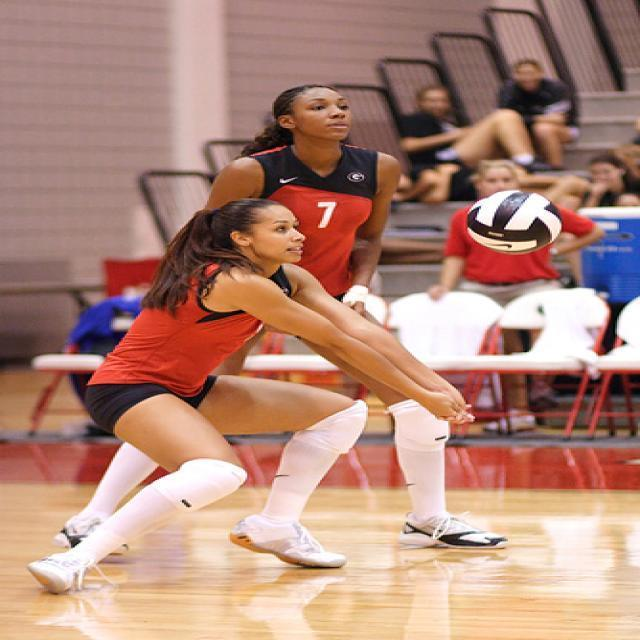volleyball: (465, 189, 562, 255)
